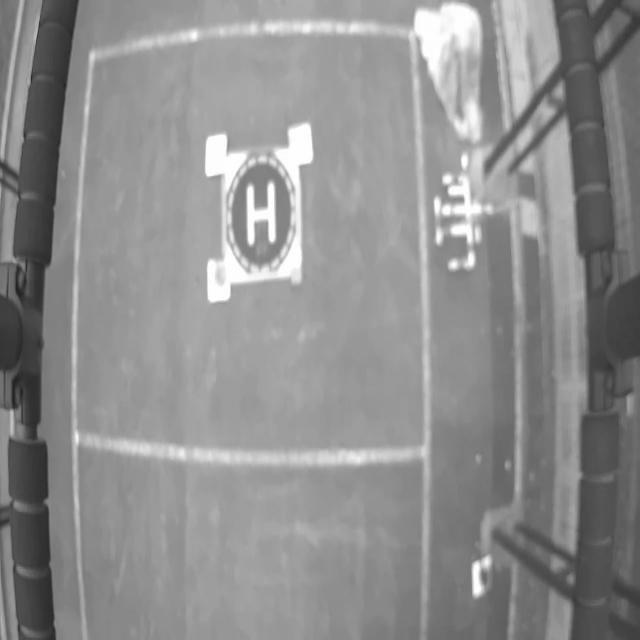Helipad: (246, 181, 277, 247)
